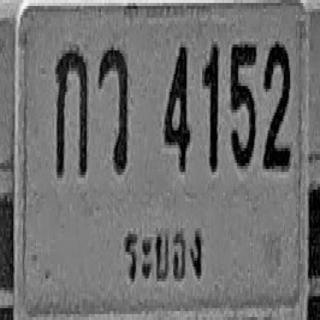A01: (55, 46, 88, 176)
A37: (98, 43, 128, 173)
N01: (203, 43, 218, 170)
N02: (263, 39, 291, 169)
N04: (164, 44, 190, 172)
N05: (230, 40, 256, 168)
P53: (119, 215, 213, 294)
